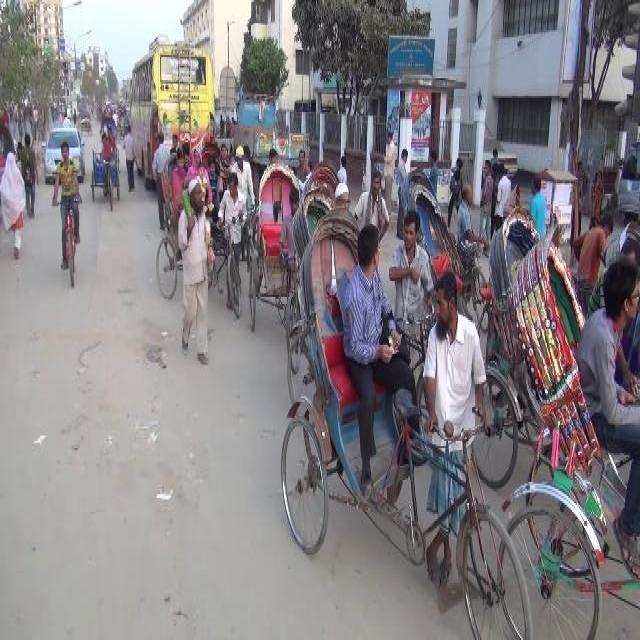13: (278, 205, 534, 638), (495, 216, 637, 637), (402, 178, 492, 330), (244, 160, 304, 377)
18: (226, 91, 310, 169)
20: (90, 121, 120, 213)
5: (42, 123, 82, 183)
Motorcycle: (49, 138, 83, 292)
Truck: (123, 27, 214, 193)
